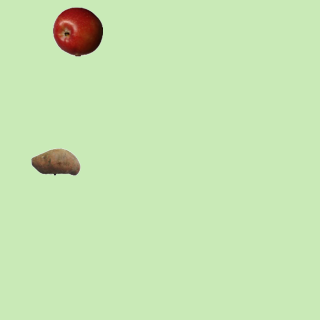Apple Braeburn: (52, 6, 102, 56)
Potato Sweet: (30, 136, 80, 186)
